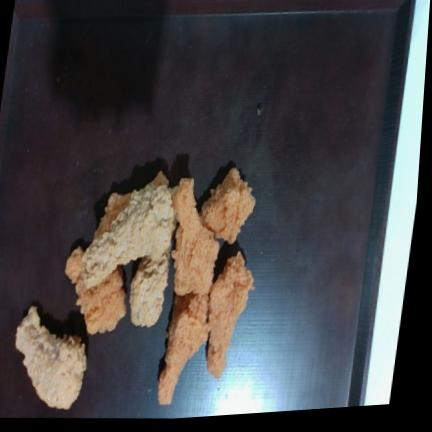chicken: (82, 181, 175, 286), (15, 306, 86, 408), (206, 251, 253, 377), (157, 292, 208, 404), (171, 177, 219, 295), (65, 246, 126, 333), (200, 167, 255, 243), (129, 242, 170, 326)
